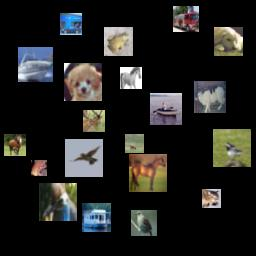automobile: (60, 13, 82, 35)
bird: (39, 183, 77, 221), (213, 129, 251, 167), (65, 139, 103, 177), (131, 210, 157, 236)
cat: (194, 81, 226, 113), (202, 189, 221, 208)
deer: (83, 110, 105, 132), (125, 134, 144, 153)
dog: (64, 63, 102, 101), (214, 27, 243, 56)
frog: (104, 27, 133, 56), (31, 160, 47, 176)
ship: (18, 47, 53, 82), (150, 93, 182, 125), (82, 203, 111, 232)
truck: (173, 6, 199, 32)
